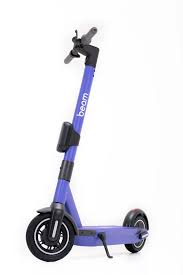kick_board: (25, 28, 148, 262)
kick_body: (81, 225, 126, 243)
kick_handler: (66, 29, 100, 64)
kick_neck: (53, 67, 94, 199)
kick_wheel: (27, 210, 74, 262), (127, 210, 150, 251)
